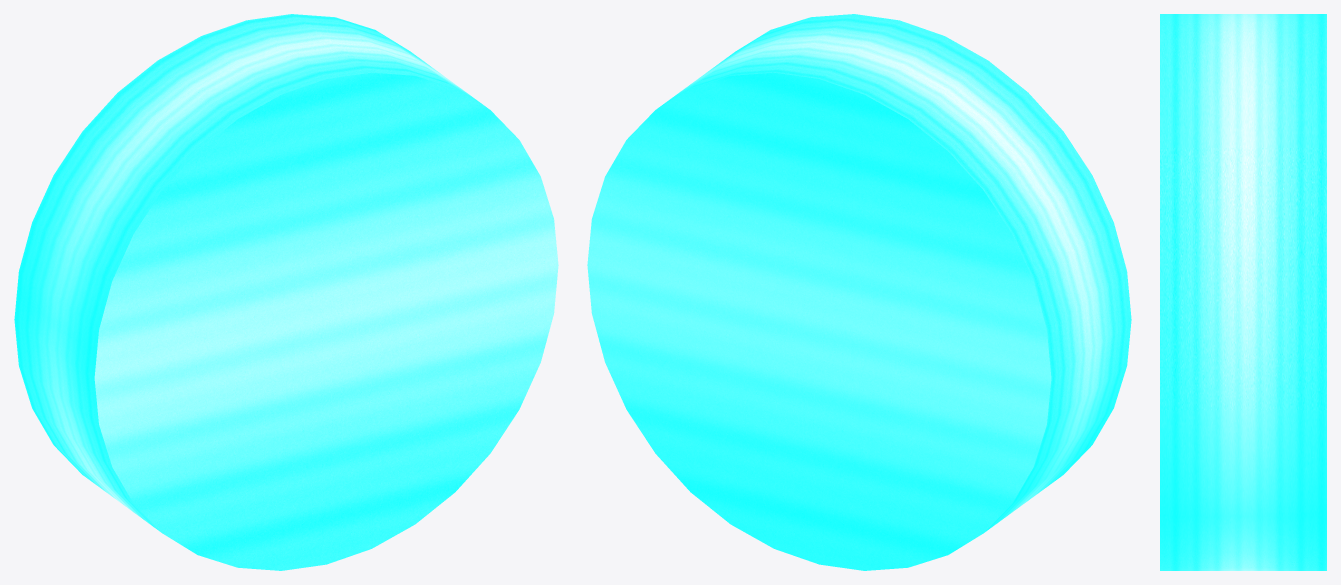
The model's file is cyan_laser_rod.glb.
The picture shows the model from 3 angles, left to right: view 1: azimuth 30°, elevation 25°; view 2: azimuth 150°, elevation 25°; view 3: azimuth 270°, elevation 25°; orthographic projection. The views are drawn at different scales.
Visible parts, largest first — view 1: CyanLaserRod_Root; view 2: CyanLaserRod_Root; view 3: CyanLaserRod_Root.
Part boxes in pixels (left/top/right/bottom): CyanLaserRod_Root: left=14, top=14, right=558, bottom=570; CyanLaserRod_Root: left=587, top=14, right=1131, bottom=570; CyanLaserRod_Root: left=1160, top=14, right=1326, bottom=570.
Size of the model in its own units: 0.0796 by 0.0796 by 0.0238.
1 material, 1 textured.
